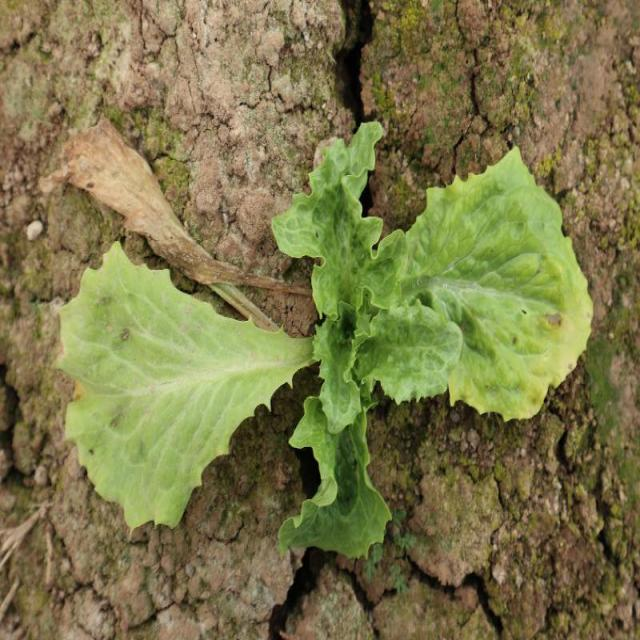crop: (274, 128, 590, 567)
